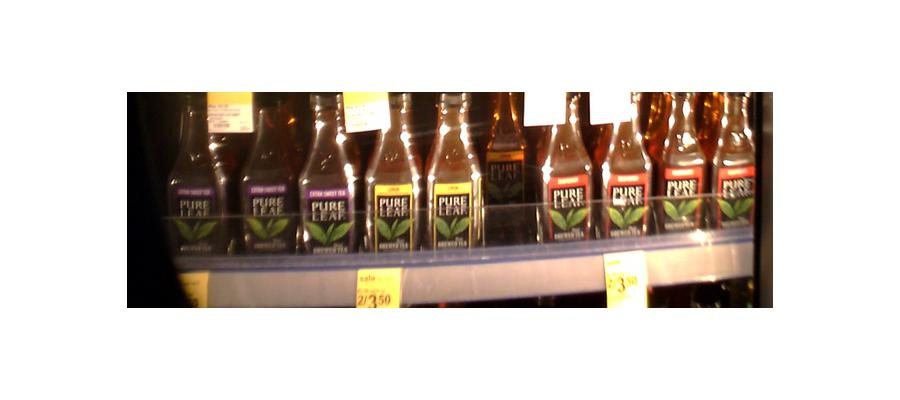bottle: (298, 91, 360, 257), (422, 86, 482, 254), (363, 87, 421, 256), (166, 94, 226, 257), (239, 93, 296, 255), (543, 89, 598, 245), (656, 94, 708, 232), (603, 96, 652, 242), (485, 87, 528, 230), (715, 88, 755, 233)
